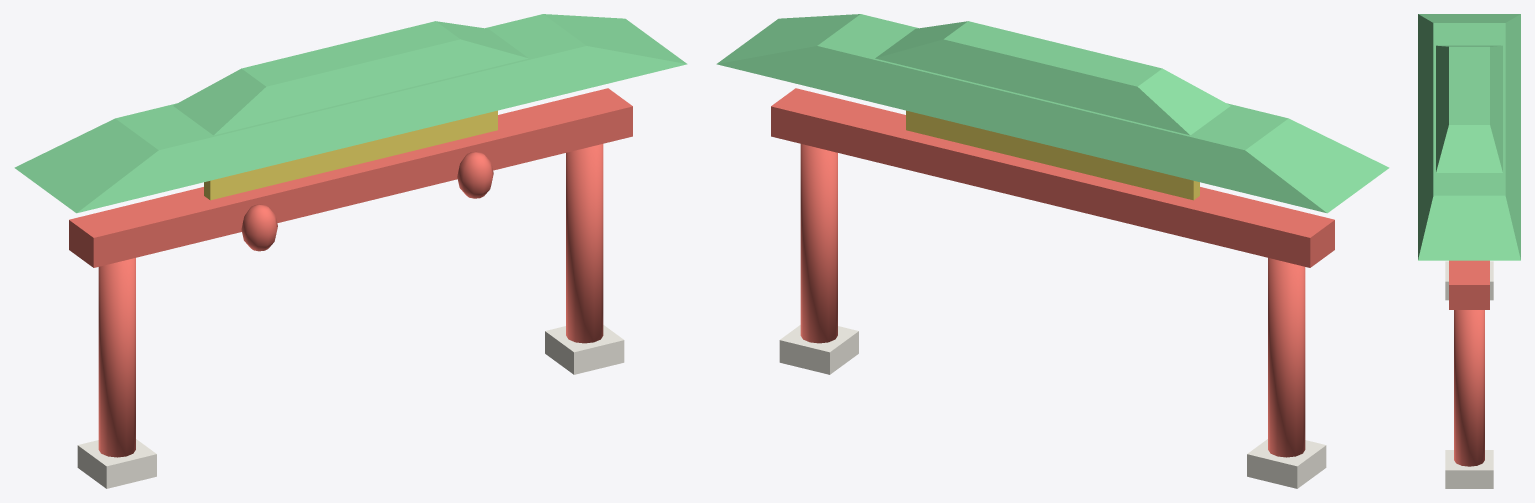
The model's file is Prop_ChinatownGate.fbx.
3 renders of one model, left to right at view 1: azimuth 30°, elevation 25°; view 2: azimuth 150°, elevation 25°; view 3: azimuth 270°, elevation 25°, orthographic. The views are drawn at different scales.
Parts seen in each view (by area): view 1: Prop_ChinatownGate; view 2: Prop_ChinatownGate; view 3: Prop_ChinatownGate.
Boxes of the visible parts, box(x1,y1,x2,y2) form: Prop_ChinatownGate: box(14, 14, 687, 488); Prop_ChinatownGate: box(716, 14, 1389, 488); Prop_ChinatownGate: box(1418, 14, 1520, 488).
Size of the model in its own units: 17 by 9.6 by 3.
